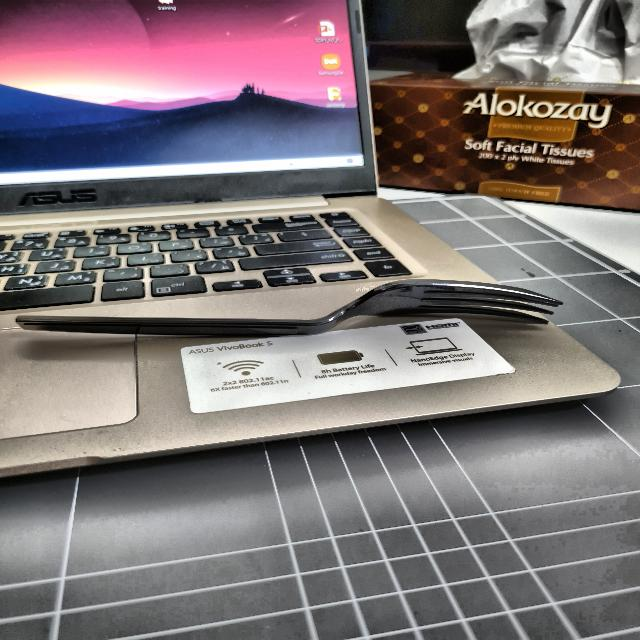plastic utensil: (19, 280, 566, 346)
